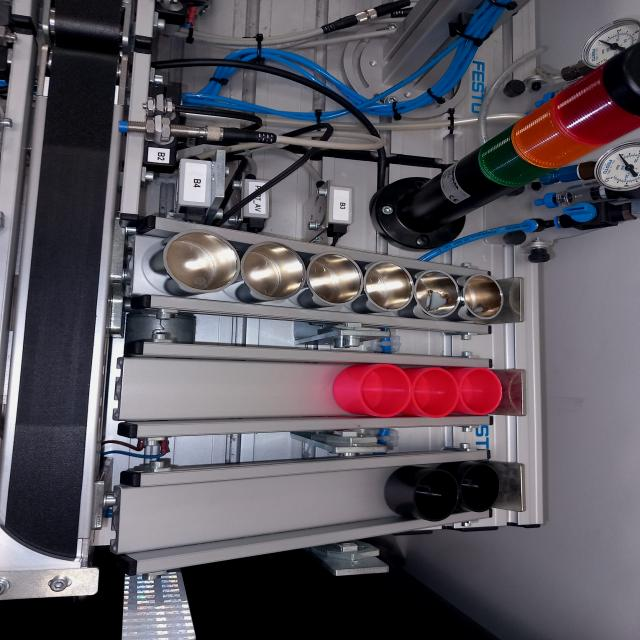NoLid: (161, 232, 235, 296), (336, 360, 412, 420), (305, 254, 370, 310), (241, 246, 305, 301), (454, 268, 508, 328), (394, 476, 456, 520), (413, 269, 468, 318), (450, 463, 504, 511), (370, 256, 413, 316), (458, 365, 509, 414), (414, 361, 453, 421)
